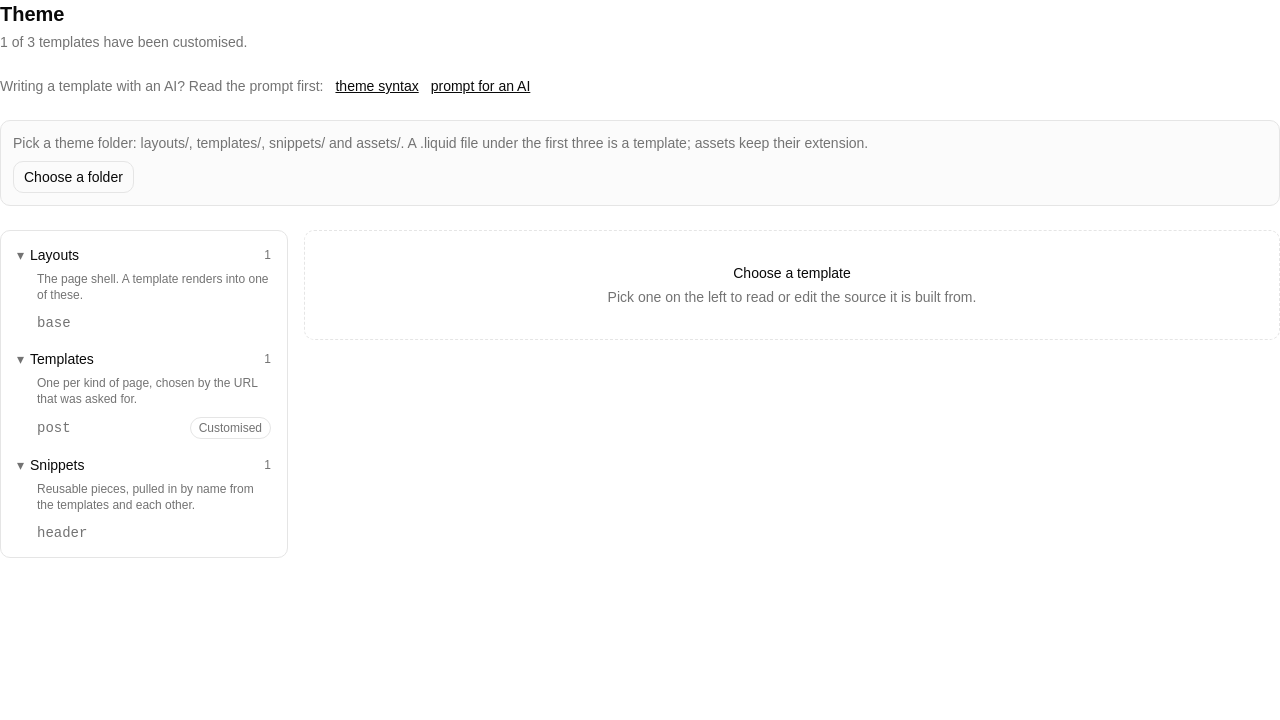
it: the authoring documents › opens one in the panel, with the text and a download
Click the button "theme syntax".
click(377, 86)  # box [336,76,419,96]
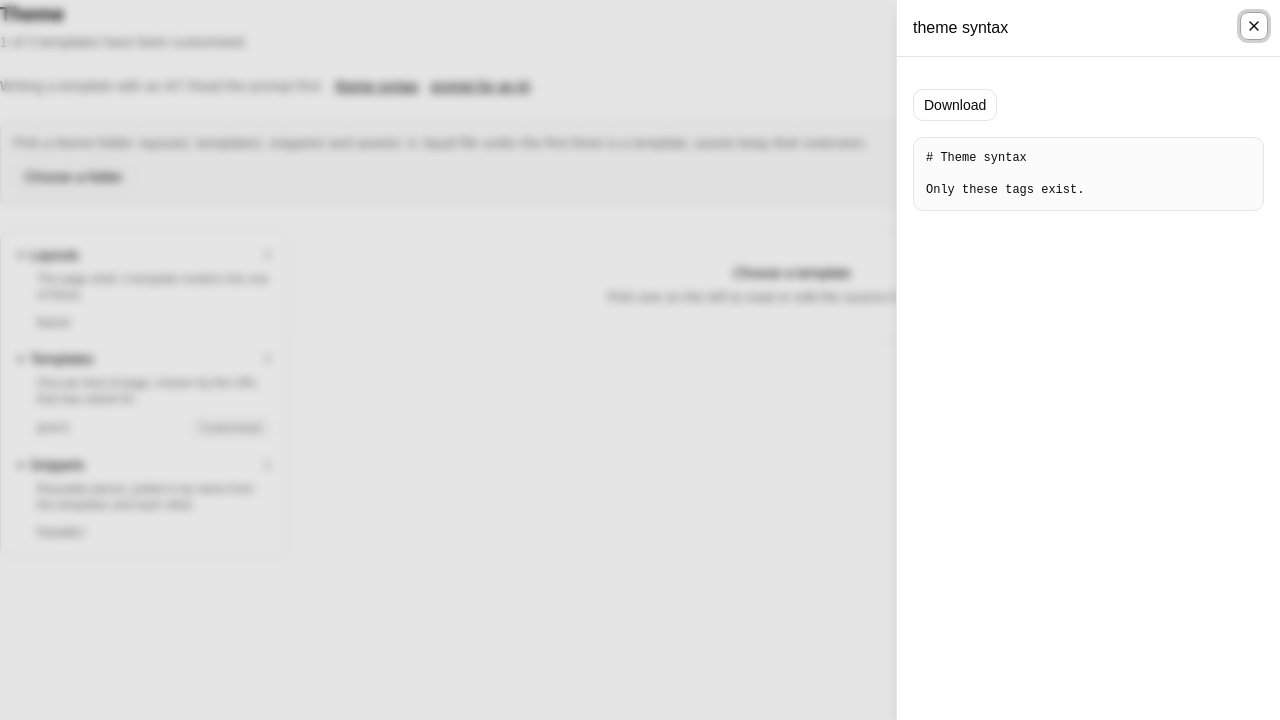
Now the text "# Theme syntax Only these tags exist." is shown, box [913,137,1264,211]
